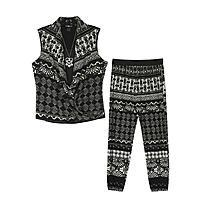C_W_pants: (104, 56, 175, 194)
C_tank top: (29, 14, 108, 124)
